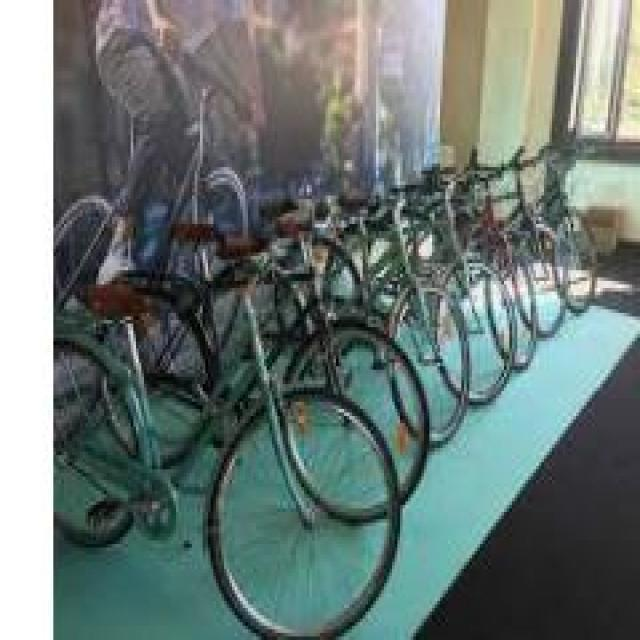bicycle: (62, 211, 408, 634), (268, 208, 428, 510), (334, 193, 468, 449), (406, 179, 516, 417), (449, 165, 540, 382), (473, 151, 571, 343)
